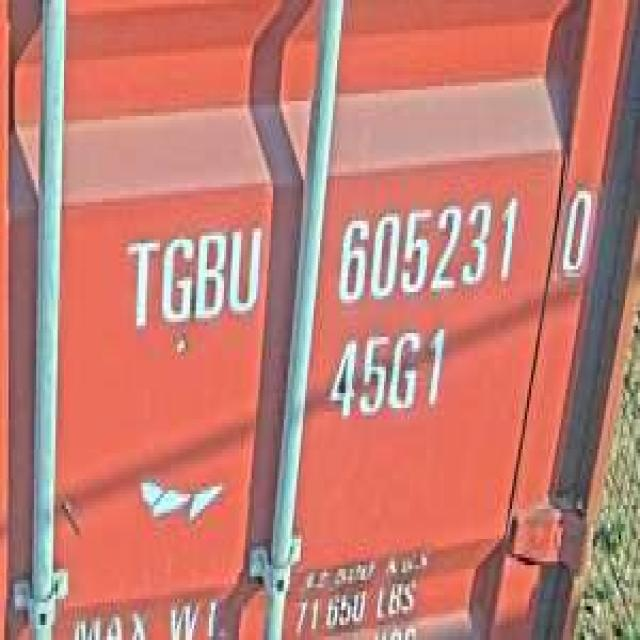dv: (557, 172, 597, 288)
owner: (117, 213, 267, 337)
serial: (328, 187, 520, 307)
size: (324, 322, 450, 427)
